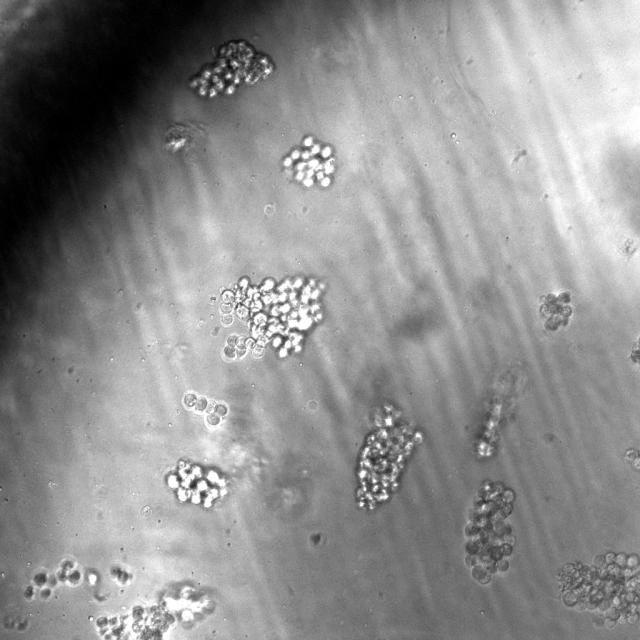organoid: (219, 273, 327, 360), (355, 401, 422, 510), (96, 583, 215, 639), (556, 552, 639, 628), (465, 480, 514, 584), (190, 40, 274, 98), (166, 459, 228, 508), (282, 135, 336, 187), (23, 559, 83, 599), (182, 391, 228, 428), (539, 291, 572, 330), (109, 564, 132, 586), (629, 336, 639, 366)
